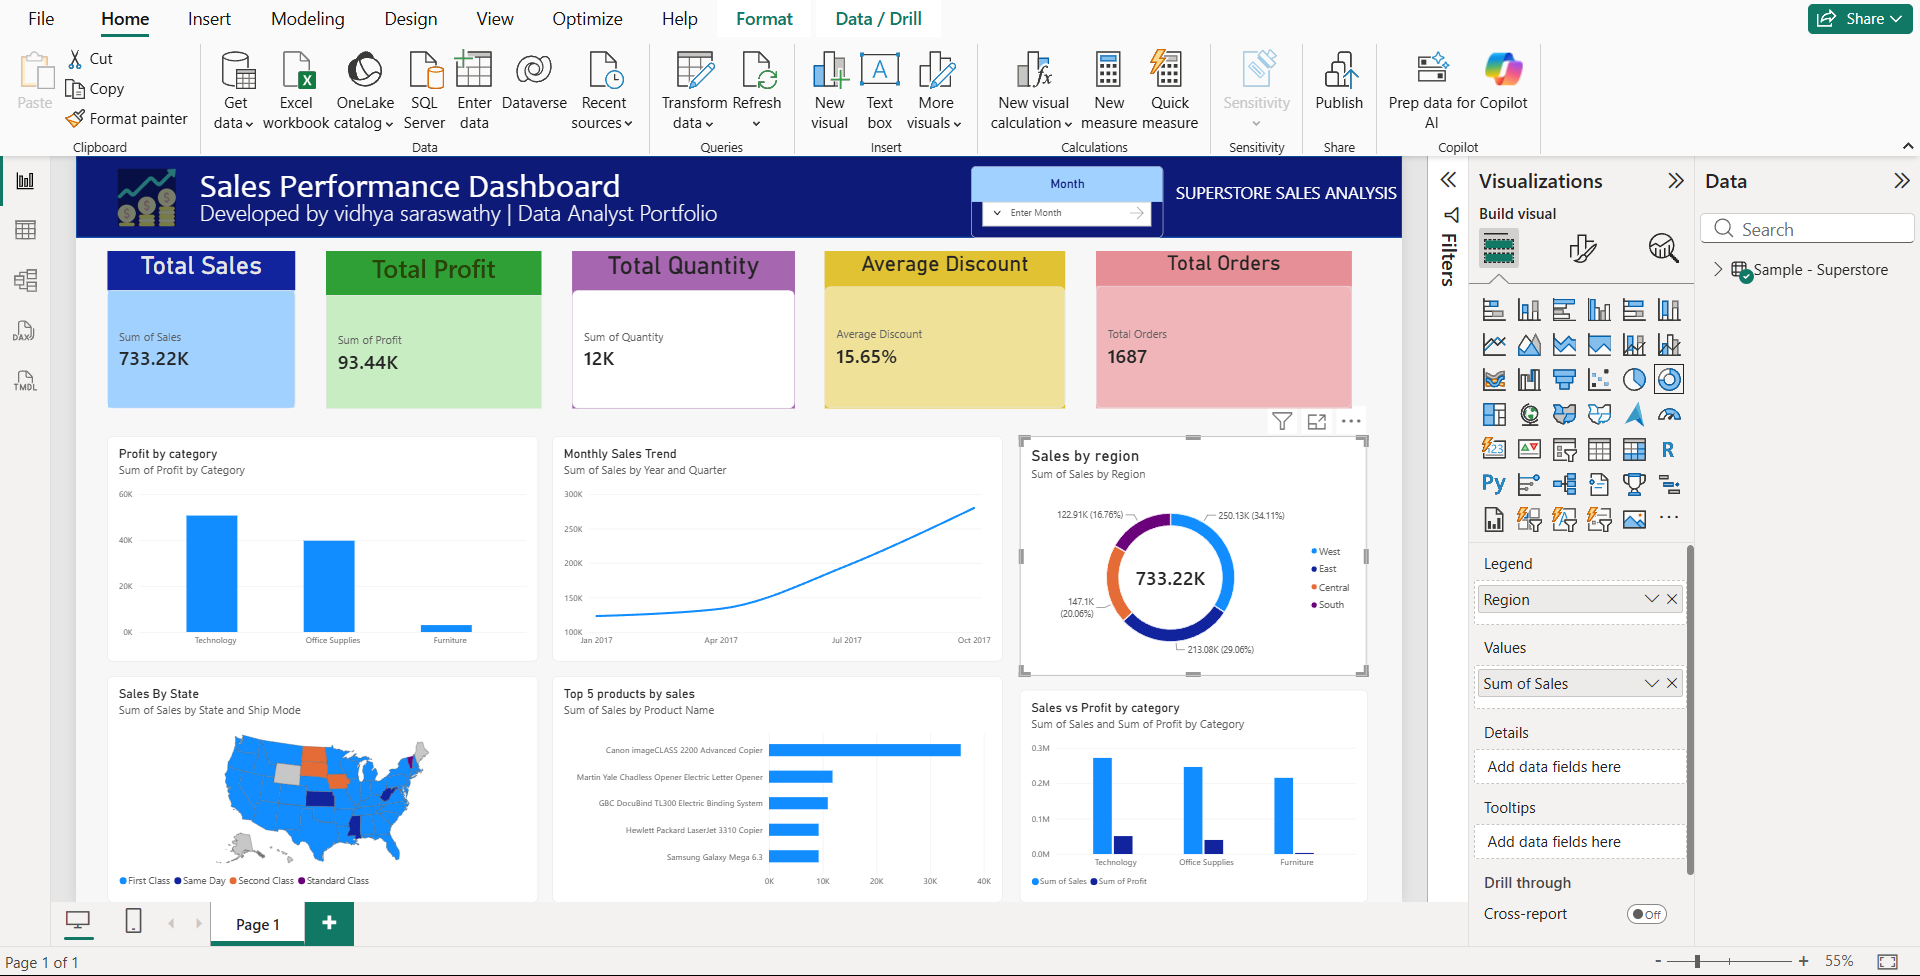

What the dashboard file says about the page in this screenshot:
{"tool":"powerbi","page":{"name":"Page 1","canvas":[1920,1080],"ordinal":0},"visuals":[{"type":"cardVisual","title":"Total Sales","fields":{"Data":["Sum(Sample - Superstore.Sales)"]},"box":[46,138,272,228],"z":0},{"type":"shape","box":[0,0,1920,118],"z":1000},{"type":"textbox","box":[180,14,812,92],"z":2000},{"type":"clusteredColumnChart","title":"Profit by category","fields":{"Category":["Sample - Superstore.Category"],"Y":["Sum(Sample - Superstore.Profit)"]},"box":[46,406,624,326],"z":3000},{"type":"donutChart","title":"Sales by region","fields":{"Category":["Sample - Superstore.Region"],"Y":["Sum(Sample - Superstore.Sales)"]},"box":[1366,406,504,346],"z":4000},{"type":"cardVisual","title":"Total Profit","fields":{"Data":["Sum(Sample - Superstore.Profit)"]},"box":[362,138,312,228],"z":5000},{"type":"textSlicer","fields":{"Values":["Sample - Superstore.Order Date.Variation.Date Hierarchy.Month"]},"box":[1296,14,278,104],"z":6000},{"type":"cardVisual","title":"Total Quantity","fields":{"Data":["Sum(Sample - Superstore.Quantity)"]},"box":[718,138,322,228],"z":8000},{"type":"lineChart","title":"Monthly Sales Trend","fields":{"Category":["Sample - Superstore.Order Date.Variation.Date Hierarchy.Year","Sample - Superstore.Order Date.Variation.Date Hierarchy.Quarter","Sample - Superstore.Order Date.Variation.Date Hierarchy.Month","Sample - Superstore.Order Date.Variation.Date Hierarchy.Day"],"Y":["Sum(Sample - Superstore.Sales)"]},"box":[690,406,652,326],"z":9000},{"type":"shapeMap","title":"Sales By State","fields":{"Category":["Sample - Superstore.State"],"Series":["Sample - Superstore.Ship Mode"],"Value":["Sum(Sample - Superstore.Sales)"]},"box":[46,752,624,328],"z":10000},{"type":"lineClusteredColumnComboChart","title":"Sales vs Profit by category","fields":{"Category":["Sample - Superstore.Category"],"Y":["Sum(Sample - Superstore.Sales)","Sum(Sample - Superstore.Profit)"]},"box":[1366,772,504,308],"z":11000},{"type":"clusteredBarChart","title":"Top 5 products by sales","fields":{"Category":["Sample - Superstore.Product Name"],"Y":["Sum(Sample - Superstore.Sales)"]},"box":[690,752,652,328],"z":12000},{"type":"cardVisual","title":"Average Discount","fields":{"Data":["Sample - Superstore.Average Discount"]},"box":[1084,138,348,228],"z":13000},{"type":"image","box":[52,18,100,84],"z":14000},{"type":"textbox","box":[180,60,1000,46],"z":15000},{"type":"cardVisual","title":"Total Orders","fields":{"Data":["Sample - Superstore.Total Orders"]},"box":[1476,138,370,228],"z":15001},{"type":"textbox","box":[1592,36,328,48],"z":15002}]}

Visuals, with their boxes on the page's 1920x1080 design canvas (x1, y1, x2, y2). These are canvas units, not pixel positions in the 1920x976 screenshot, which may show the page scaled, cropped or inside an application window:
"Total Sales" cardVisual: x1=46, y1=138, x2=318, y2=366
shape: x1=0, y1=0, x2=1920, y2=118
textbox: x1=180, y1=14, x2=992, y2=106
"Profit by category" clusteredColumnChart: x1=46, y1=406, x2=670, y2=732
"Sales by region" donutChart: x1=1366, y1=406, x2=1870, y2=752
"Total Profit" cardVisual: x1=362, y1=138, x2=674, y2=366
textSlicer - Sample - Superstore.Order Date.Variation.Date Hierarchy.Month: x1=1296, y1=14, x2=1574, y2=118
"Total Quantity" cardVisual: x1=718, y1=138, x2=1040, y2=366
"Monthly Sales Trend" lineChart: x1=690, y1=406, x2=1342, y2=732
"Sales By State" shapeMap: x1=46, y1=752, x2=670, y2=1080
"Sales vs Profit by category" lineClusteredColumnComboChart: x1=1366, y1=772, x2=1870, y2=1080
"Top 5 products by sales" clusteredBarChart: x1=690, y1=752, x2=1342, y2=1080
"Average Discount" cardVisual: x1=1084, y1=138, x2=1432, y2=366
image: x1=52, y1=18, x2=152, y2=102
textbox: x1=180, y1=60, x2=1180, y2=106
"Total Orders" cardVisual: x1=1476, y1=138, x2=1846, y2=366
textbox: x1=1592, y1=36, x2=1920, y2=84
